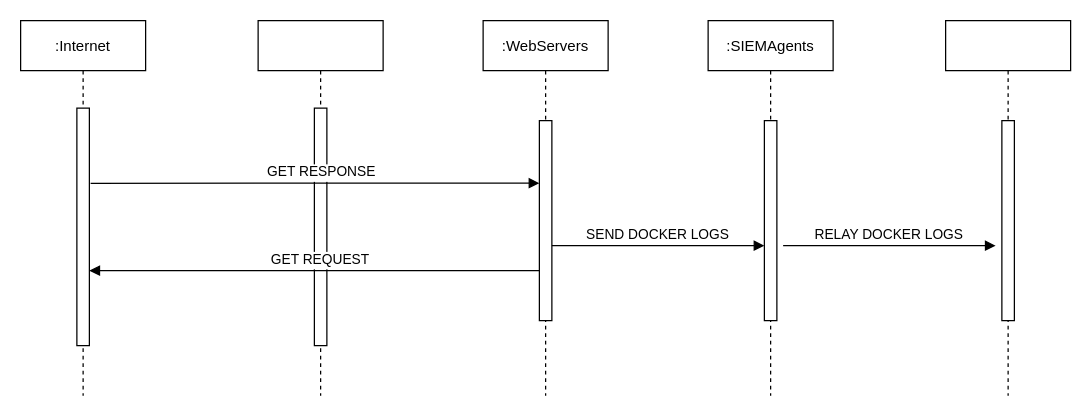
The diagram is 1091 pixels wide and 416 high, and some of its shapes have lost their labels. Here are the shapes that lost their labels. From the top down, the box of each, then its label:
(257, 19, 383, 396): :NetworkSniffer
(944, 19, 1071, 396): :SIEMTools
